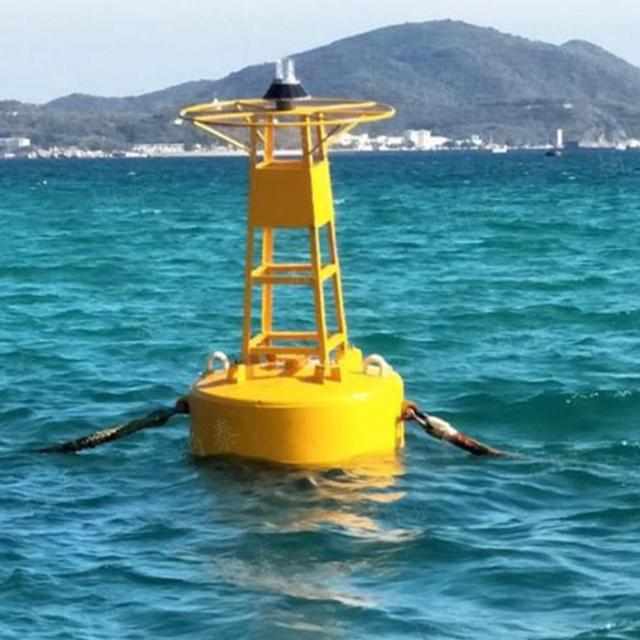buoy: (166, 56, 420, 469)
